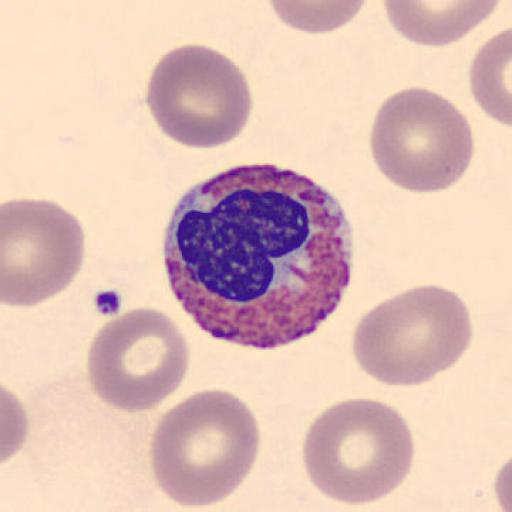RBC: (2, 369, 200, 511), (149, 388, 261, 509), (301, 396, 416, 508), (351, 283, 474, 387), (369, 84, 476, 194), (144, 43, 254, 150), (84, 305, 190, 414), (1, 197, 87, 308), (381, 0, 502, 47), (469, 26, 512, 128), (266, 0, 369, 35), (0, 382, 30, 467), (493, 454, 512, 512)
WBC: (162, 158, 356, 350)
